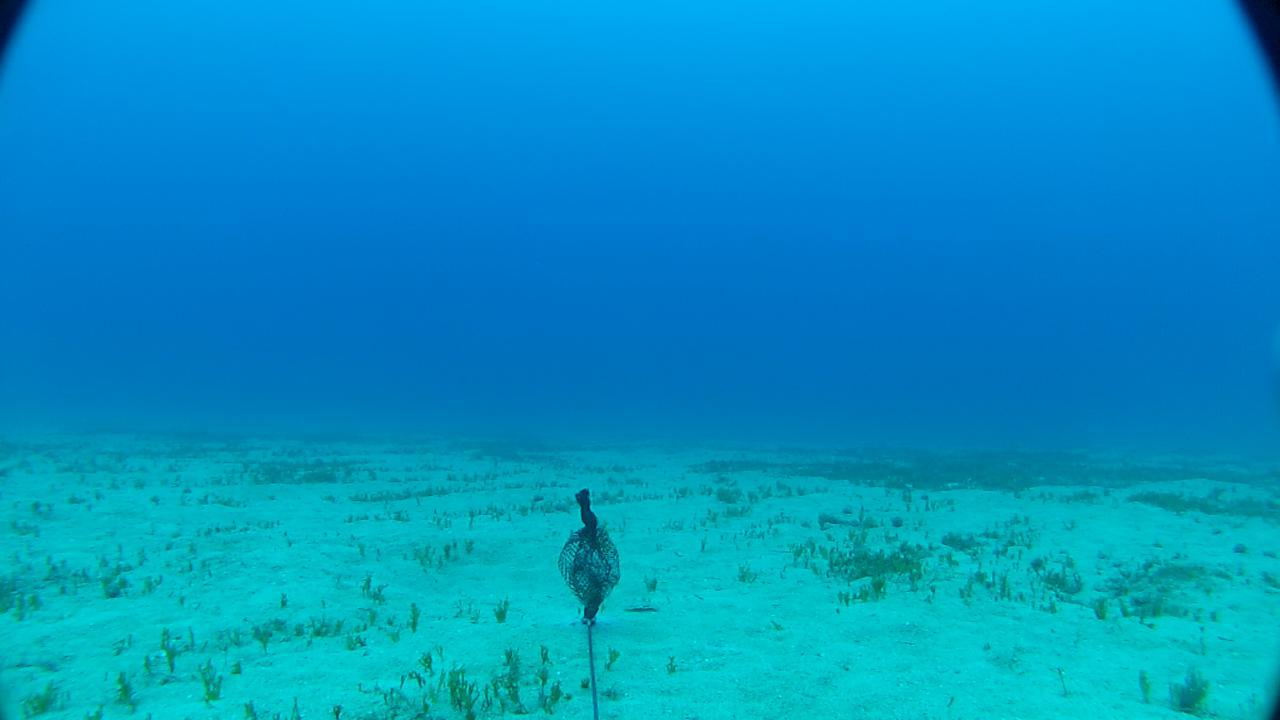bothus: (616, 596, 660, 614)
